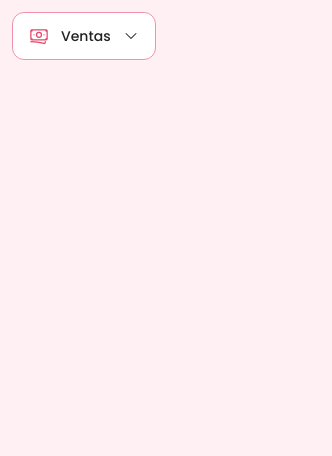
Test case: ReportSelector › opens dropdown on click
This screenshot has width=332, height=456.
Click the button: (84, 36) [12,12,156,60]
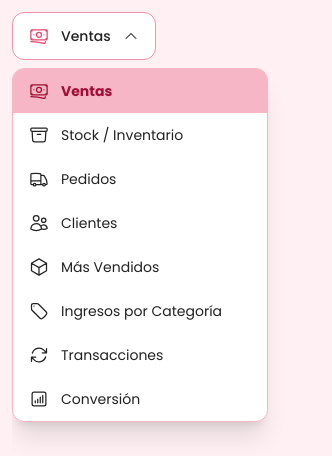
Expected: the text "Stock / Inventario" is shown, [61,125,183,145]
